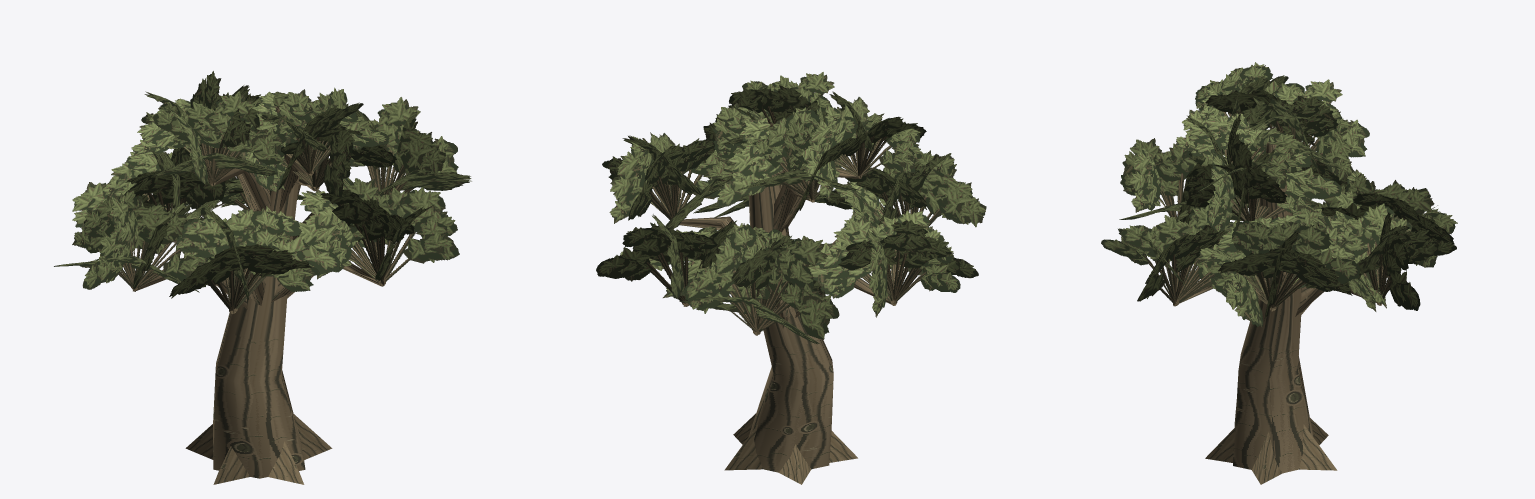
File: scrub-olive-near.glb
3 views of the same model, side by side, from view 1: azimuth 30°, elevation 25°; view 2: azimuth 150°, elevation 25°; view 3: azimuth 270°, elevation 25° (orthographic). The views are drawn at different scales.
Parts seen in each view (by area): view 1: Scrub olive near v3 runtime; view 2: Scrub olive near v3 runtime; view 3: Scrub olive near v3 runtime.
Boxes of the visible parts, left/top/right/bottom form: Scrub olive near v3 runtime: left=54, top=71, right=471, bottom=484; Scrub olive near v3 runtime: left=596, top=72, right=986, bottom=484; Scrub olive near v3 runtime: left=1101, top=62, right=1457, bottom=484.
Size of the model in its own units: 5.96 by 5.46 by 5.69.
1 material, 1 textured.
